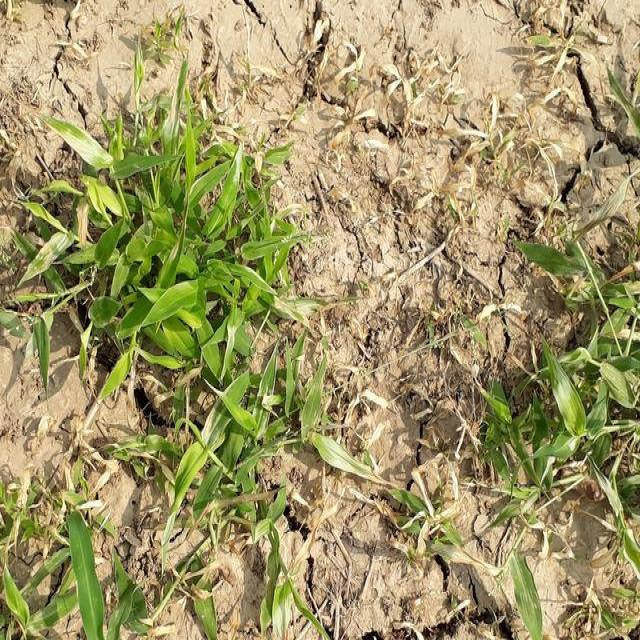weed: (25, 89, 301, 498), (509, 222, 640, 489)
